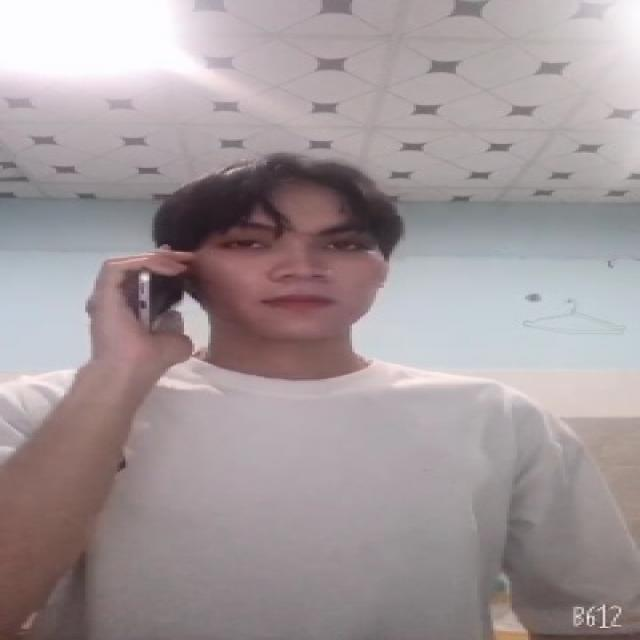Phone: (129, 253, 194, 333)
